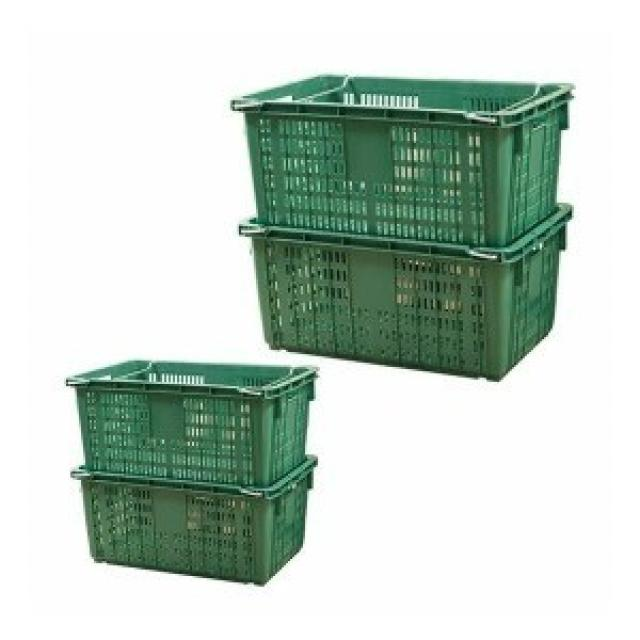basket: (220, 70, 580, 382), (68, 448, 315, 588), (63, 361, 315, 489)
